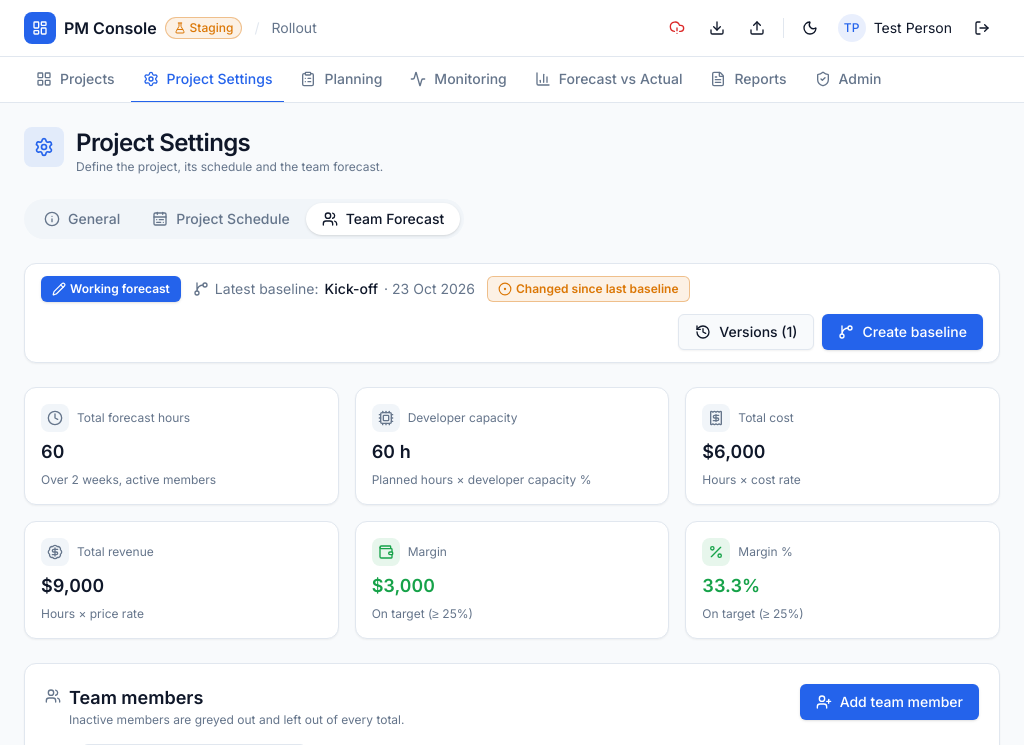
Scenario: Forecast baselines › compares a baseline with the working forecast
The width and height of the screenshot is (1024, 745).
What coordinates should you click on to do the following:
click the button "Versions (1)"
I would click on:
 (746, 332)
Its box is 678,314 -> 814,350.
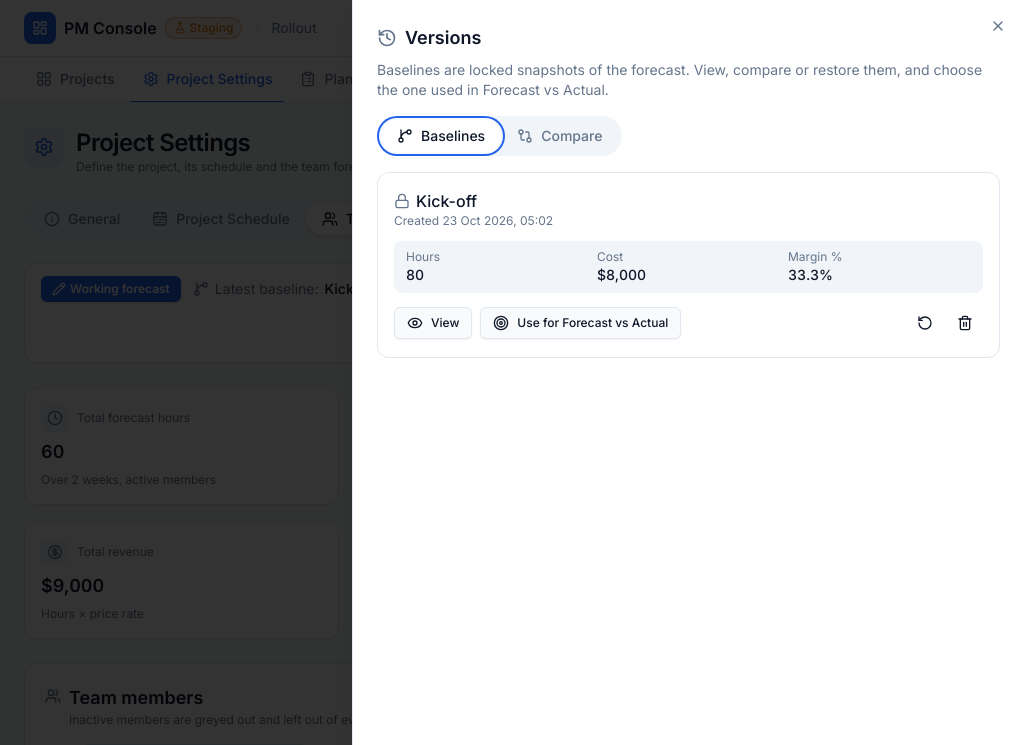
What coordinates should you click on to do the following:
click the tab "Compare"
I would click on:
 (560, 136)
Its box is 501,120 -> 618,152.
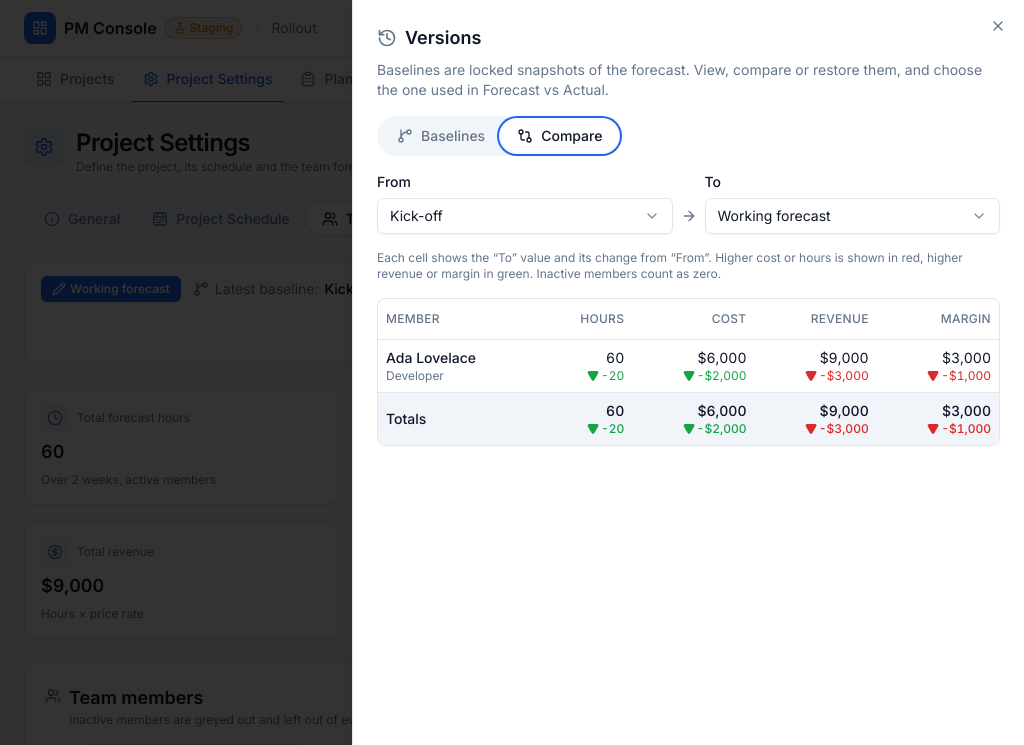
Result: the number of elements named "down 20" is 2 at 587,368 -> 624,382; 587,420 -> 624,436
Result: the number of elements named "down $2,000" is 2 at 683,368 -> 746,382; 683,420 -> 746,436
